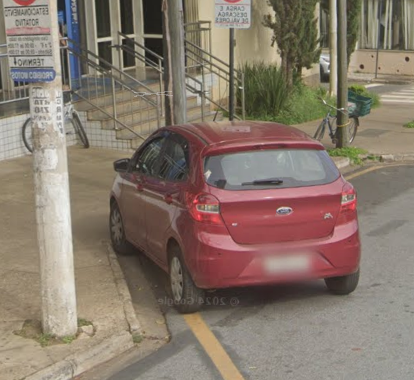car: (104, 86, 368, 316)
